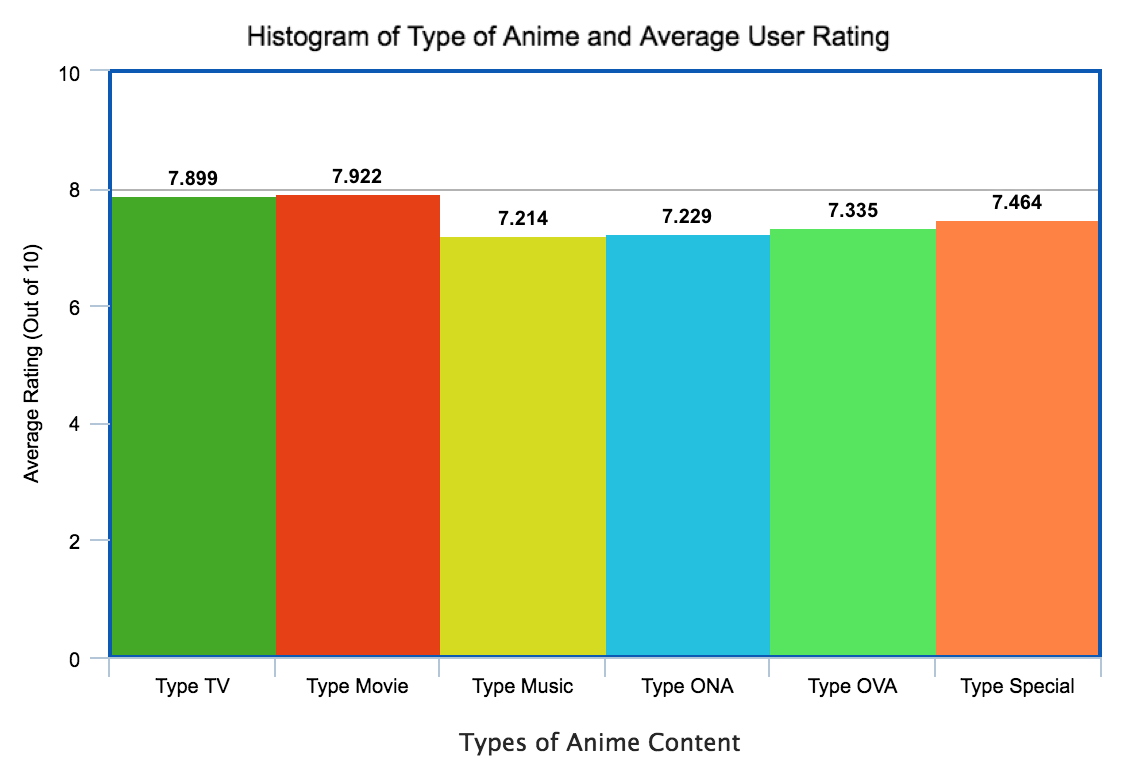

Layout of this report page (visuals, bound fields, positions):
{"tool":"tableau","page":{"name":"Dashboard 2","canvas":[1000,800],"ordinal":1},"visuals":[{"type":"title","box":[8,8,984,41]},{"type":"worksheet","title":"Sheet 5","mark":"Bar","rows":["Count"],"cols":["Date and Time"],"box":[8,49,984,671.9]},{"type":"legend","title":"Sheet 5","param":"[federated.1fmcqej1ehn9ay1cq8o0v0xxn853].[avg:Wind Gust(mph):qk]","box":[8,720.9,984,71.1]}]}

Visuals, with their boxes on the page's 1000x800 design canvas (x1, y1, x2, y2). These are canvas units, not pixel positions in the 1136x784 screenshot, which may show the page scaled, cropped or inside an application window:
title: box=[8, 8, 992, 49]
"Sheet 5" worksheet (Bar marks): box=[8, 49, 992, 721]
"Sheet 5" legend: box=[8, 721, 992, 792]
